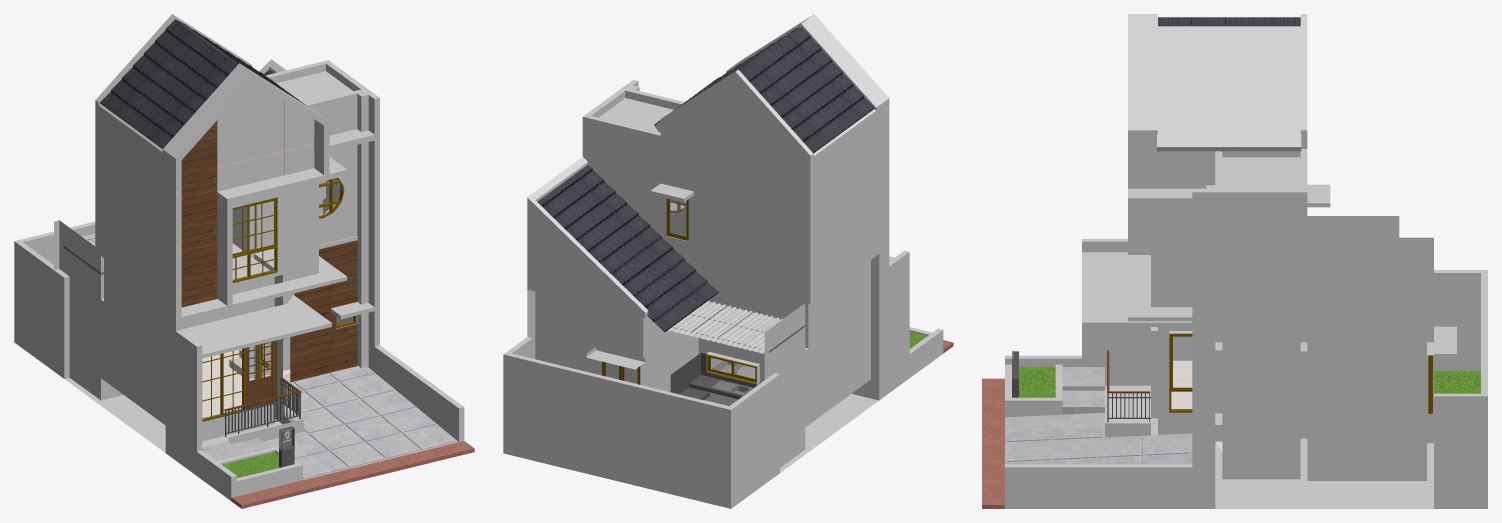
Rendered from himawari-51.glb.
3 renders of one model, left to right at view 1: azimuth 30°, elevation 25°; view 2: azimuth 150°, elevation 25°; view 3: azimuth 270°, elevation 25°, orthographic. The views are drawn at different scales.
Parts seen in each view (by area): view 1: ID79, ID104, ID152, ID6, ID173, ID411, ID432, ID88, ID291, ID356; view 2: ID79, ID6, ID88, ID189, ID173; view 3: ID79, ID104, ID411, ID356, ID6, ID432, ID173, ID88.
Boxes of the visible parts, x1,y1,x2,y2 form: ID79: [14, 14, 464, 500]; ID104: [202, 366, 458, 479]; ID152: [181, 120, 357, 382]; ID6: [100, 19, 306, 148]; ID173: [202, 177, 356, 421]; ID411: [231, 441, 474, 508]; ID432: [202, 349, 290, 418]; ID88: [225, 379, 300, 436]; ID291: [245, 340, 275, 410]; ID356: [222, 452, 279, 478]; ID79: [503, 14, 943, 508]; ID6: [537, 26, 874, 332]; ID88: [670, 353, 756, 400]; ID189: [605, 199, 755, 383]; ID173: [602, 198, 756, 384]; ID79: [1005, 14, 1487, 508]; ID104: [1005, 367, 1192, 464]; ID411: [982, 378, 1004, 508]; ID356: [1019, 367, 1480, 397]; ID6: [1158, 17, 1300, 147]; ID432: [1171, 360, 1222, 450]; ID173: [1169, 333, 1432, 413]; ID88: [1107, 393, 1150, 422].
Size of the model in its own units: 6.5 by 9.85 by 11.
Materials: 19 (10 with a texture image).
